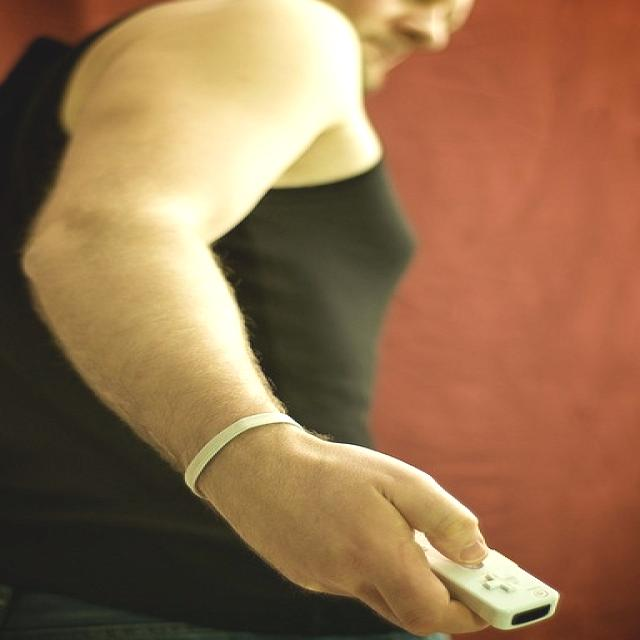piel: (17, 0, 495, 634)
